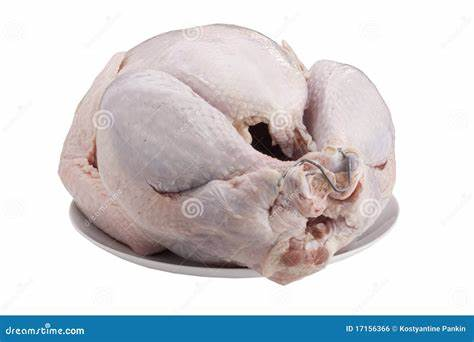Turkey: (53, 19, 407, 288)
